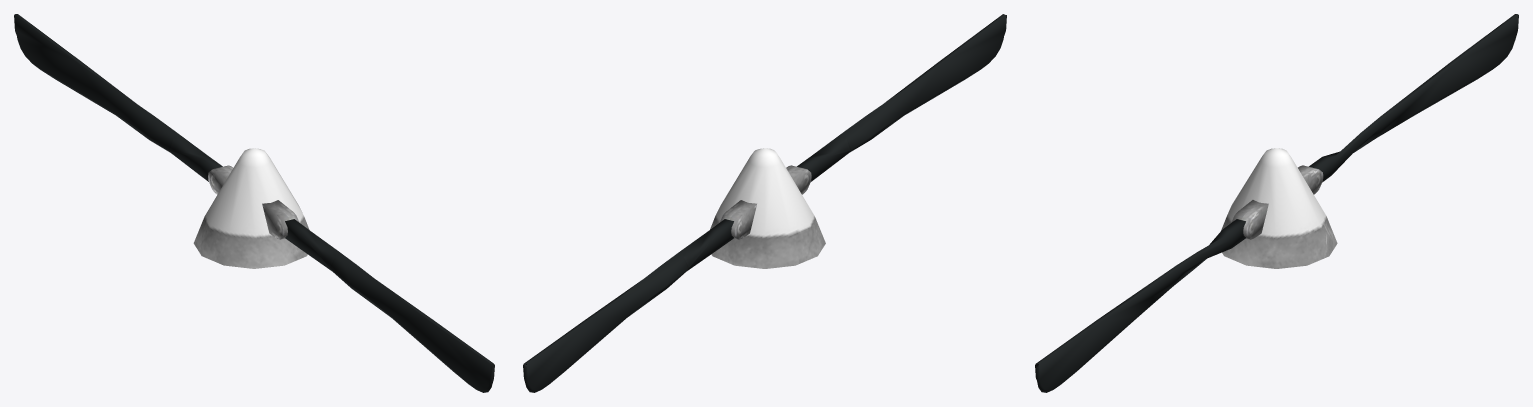
Rendered from dron_enemy_vint.glb.
3 renders of one model, left to right at view 1: azimuth 30°, elevation 25°; view 2: azimuth 150°, elevation 25°; view 3: azimuth 330°, elevation 25°, orthographic.
Parts seen in each view (by area): view 1: Object_2.001; view 2: Object_2.001; view 3: Object_2.001.
Part boxes in pixels (x1,y1,x2,y2): Object_2.001: [14, 14, 494, 392]; Object_2.001: [523, 14, 1006, 392]; Object_2.001: [1035, 14, 1518, 392].
Bounding box in the file's own units: 1.93 × 1.67 × 15.24.
Materials: 1 (1 with a texture image).
